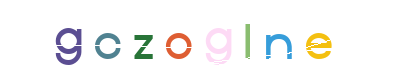C: (103, 0, 183, 80)
E: (278, 0, 358, 80)
G: (42, 0, 122, 80), (151, 0, 231, 80)
L: (161, 0, 241, 80)
N: (238, 0, 318, 80)
O: (138, 0, 218, 80)
Z: (133, 0, 213, 80)
